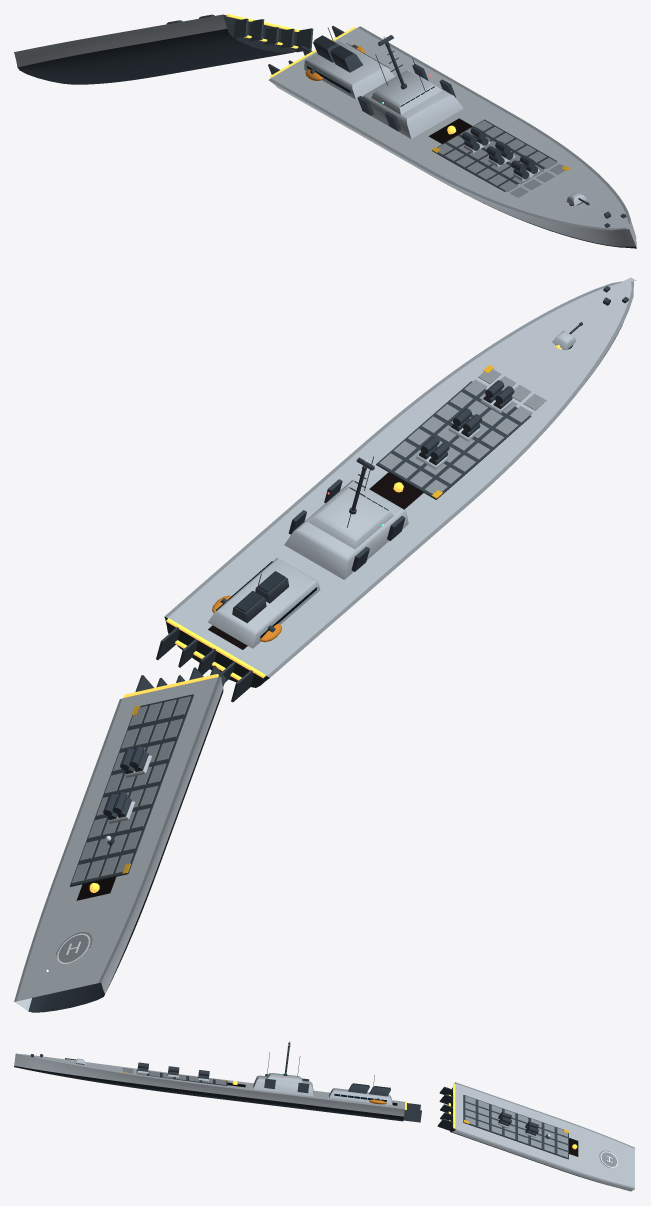
The model's file is wreck_missile.glb.
3 renders of one model, top to bottom at view 1: azimuth 30°, elevation 25°; view 2: azimuth 150°, elevation 25°; view 3: azimuth 270°, elevation 25°, orthographic. The views are drawn at different scales.
Visible parts, largest first — view 1: deck_plate_fore, hull_under_aft, hull_aft, vls_fwd_array_hatches, hull_fore, deck_fore, bridge1, midhouse, bridge2, ribs_aft_hi, vls_fwd_array, cap_aft_hi (+6 smaller); view 2: deck_plate_fore, deck_plate_aft, vls_aft_array_hatches, vls_fwd_array_hatches, deck_fore, midhouse, bridge1, vls_aft_array, bridge2, vls_fwd_array, hull_aft, deck_aft (+2 smaller); view 3: deck_plate_aft, hull_fore, vls_aft_array_hatches, hull_under_fore, deck_plate_fore, vls_aft_array, deck_aft, hull_aft, bridge1, midhouse, ribs_aft_hi, deck_fore (+4 smaller).
Part boxes in pixels (left/top/right/bottom): deck_plate_fore: left=271, top=27, right=631, bottom=229; hull_under_aft: left=17, top=29, right=292, bottom=84; hull_aft: left=14, top=14, right=226, bottom=67; vls_fwd_array_hatches: left=437, top=120, right=564, bottom=197; hull_fore: left=270, top=81, right=636, bottom=246; deck_fore: left=268, top=26, right=630, bottom=230; bridge1: left=362, top=70, right=463, bottom=138; midhouse: left=304, top=40, right=395, bottom=99; bridge2: left=371, top=71, right=442, bottom=114; ribs_aft_hi: left=233, top=18, right=313, bottom=52; vls_fwd_array: left=432, top=119, right=556, bottom=191; cap_aft_hi: left=223, top=14, right=296, bottom=52; deck_plate_fore: left=168, top=277, right=636, bottom=675; deck_plate_aft: left=17, top=677, right=217, bottom=1000; vls_aft_array_hatches: left=71, top=696, right=190, bottom=883; vls_fwd_array_hatches: left=379, top=369, right=546, bottom=494; deck_fore: left=164, top=281, right=633, bottom=677; midhouse: left=208, top=558, right=320, bottom=648; bridge1: left=284, top=480, right=408, bottom=579; vls_aft_array: left=70, top=694, right=193, bottom=886; bridge2: left=307, top=487, right=393, bottom=549; vls_fwd_array: left=376, top=381, right=531, bottom=499; hull_aft: left=14, top=677, right=223, bottom=1010; deck_aft: left=14, top=677, right=220, bottom=1001; deck_plate_aft: left=455, top=1083, right=634, bottom=1187; hull_fore: left=14, top=1054, right=404, bottom=1116; vls_aft_array_hatches: left=465, top=1096, right=567, bottom=1157; hull_under_fore: left=14, top=1065, right=403, bottom=1121; deck_plate_fore: left=16, top=1053, right=404, bottom=1108; vls_aft_array: left=463, top=1095, right=568, bottom=1159; deck_aft: left=455, top=1082, right=634, bottom=1188; hull_aft: left=452, top=1130, right=634, bottom=1191; bridge1: left=253, top=1075, right=313, bottom=1096; midhouse: left=329, top=1088, right=392, bottom=1105; ribs_aft_hi: left=437, top=1086, right=453, bottom=1130; deck_fore: left=19, top=1054, right=404, bottom=1109.
Bounding box in the file's own units: 6.31 × 10.93 × 40.77.
